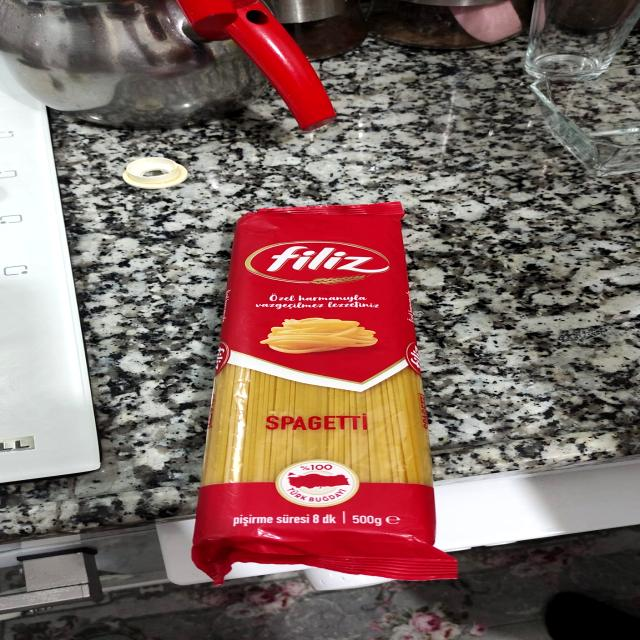spaghetti: (211, 205, 440, 560)
